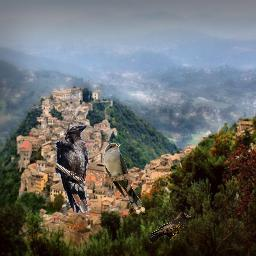Crow: (55, 124, 89, 213), (149, 212, 191, 244)
Cuckoo: (103, 143, 145, 214)
